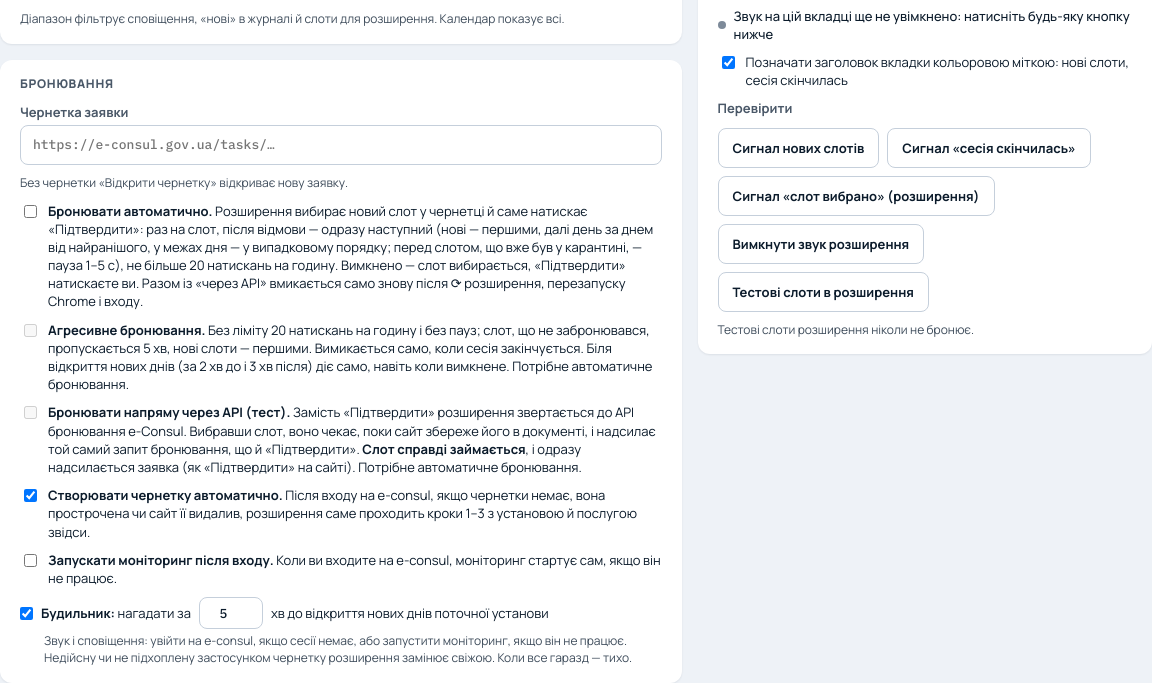
Test: SettingsView › ignores a lead time outside 1–60 and puts the old one back
(page scrolled)
Step 1. Replace the text in the number field named "Хвилин до відкриття" with "99" → (231, 613), box [199, 597, 263, 629]
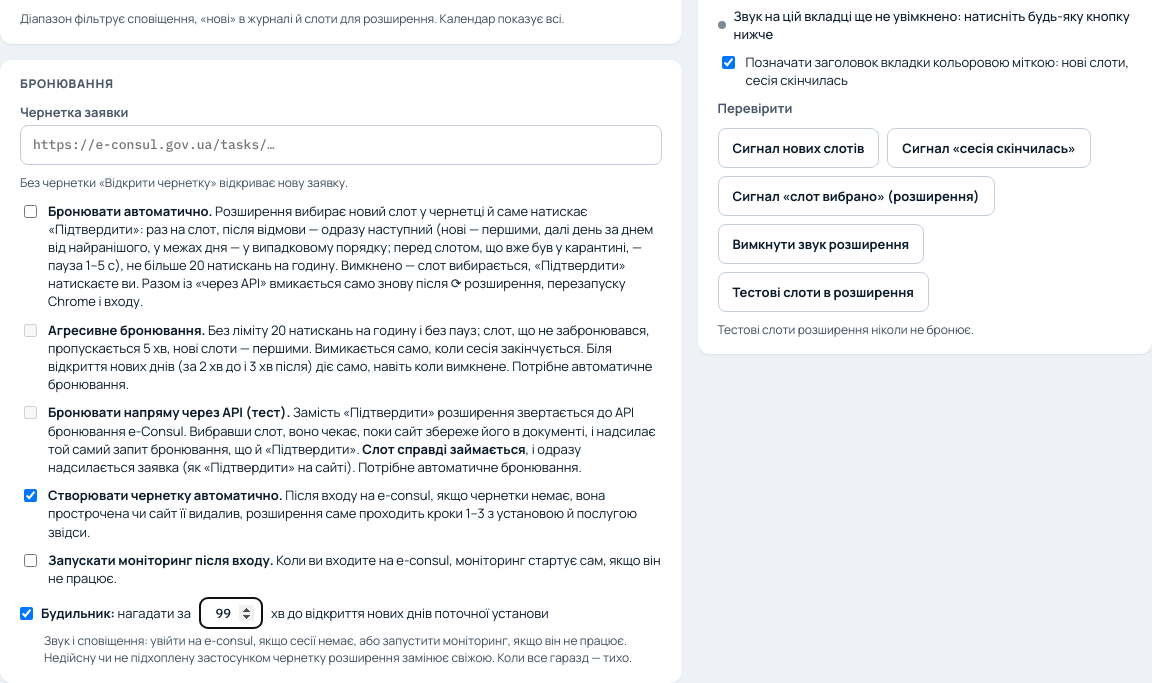
Step 2. Press Tab
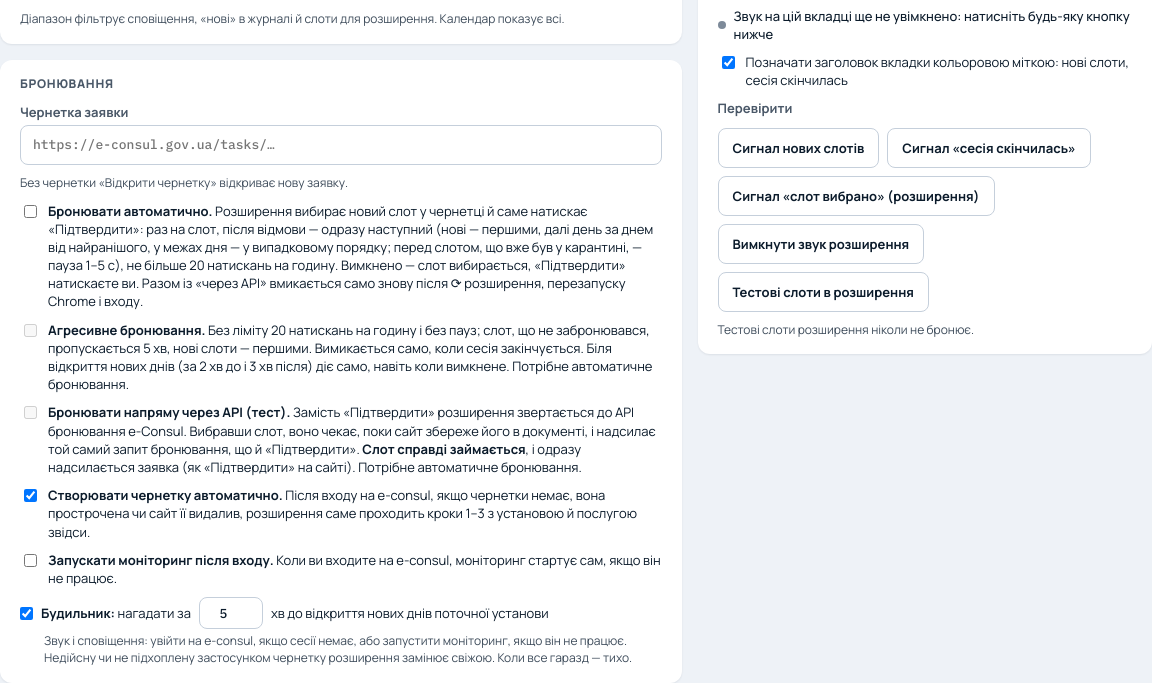
Expected: the number field named "Хвилин до відкриття" holds "5", [199, 597, 263, 629]
